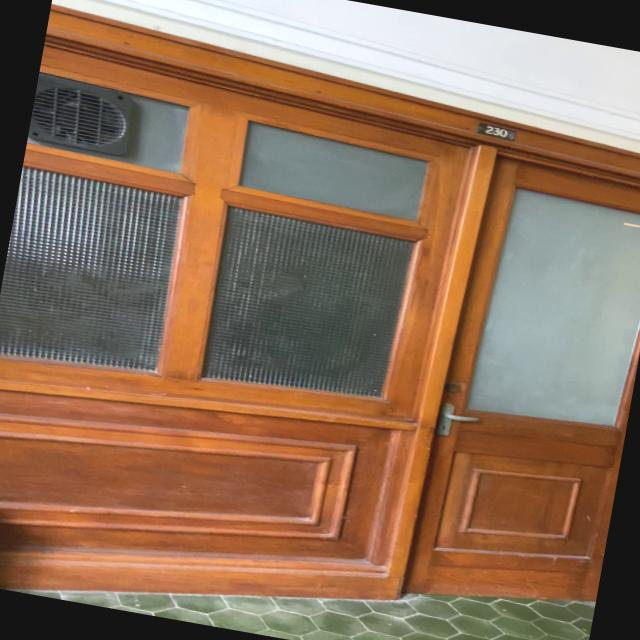room230: (475, 120, 519, 144)
